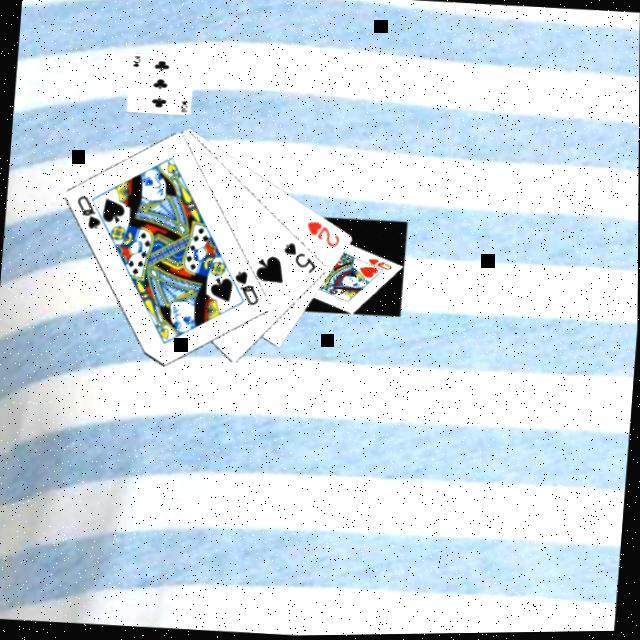2H: (302, 216, 344, 251)
5S: (278, 238, 320, 276)
QS: (228, 266, 264, 308), (72, 191, 105, 231)
